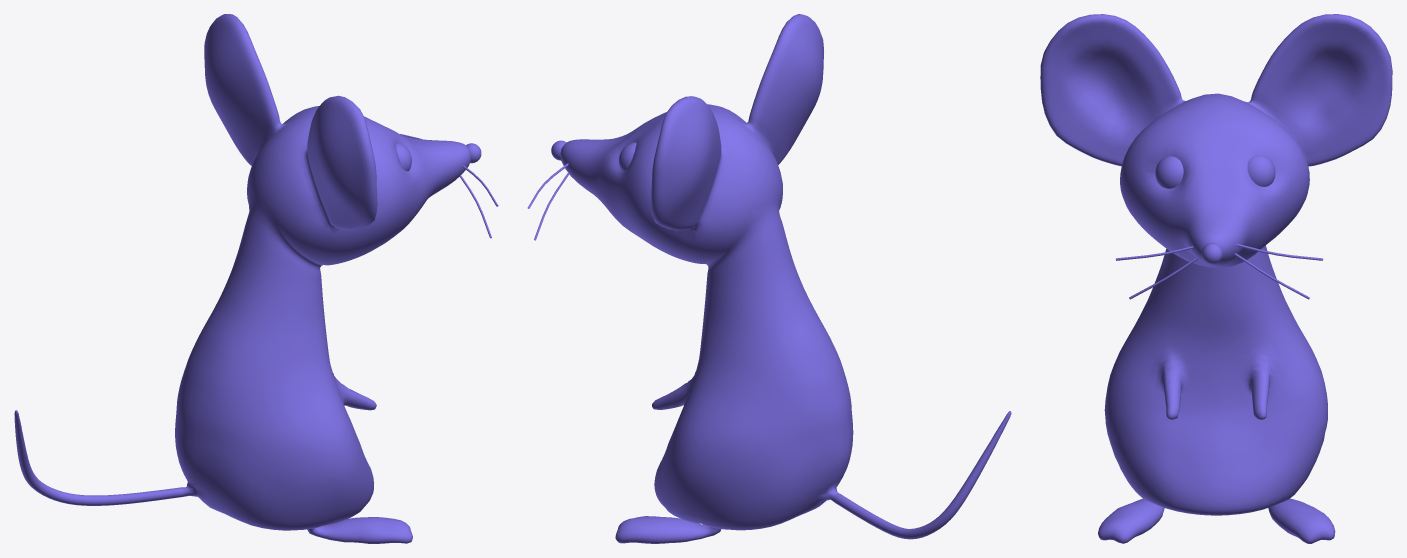
The model's file is mouse.fbx.
The picture shows the model from 3 angles, left to right: view 1: azimuth 30°, elevation 25°; view 2: azimuth 150°, elevation 25°; view 3: azimuth 270°, elevation 25°; orthographic projection. The views are drawn at different scales.
Parts seen in each view (by area): view 1: Retopo_mouse2.001; view 2: Retopo_mouse2.001; view 3: Retopo_mouse2.001.
Part boxes in pixels (x1,y1,x2,y2): Retopo_mouse2.001: (14,14,498,543); Retopo_mouse2.001: (527,14,1011,543); Retopo_mouse2.001: (1040,14,1392,543).
Size of the model in its own units: 45.23 by 43.24 by 27.98.
